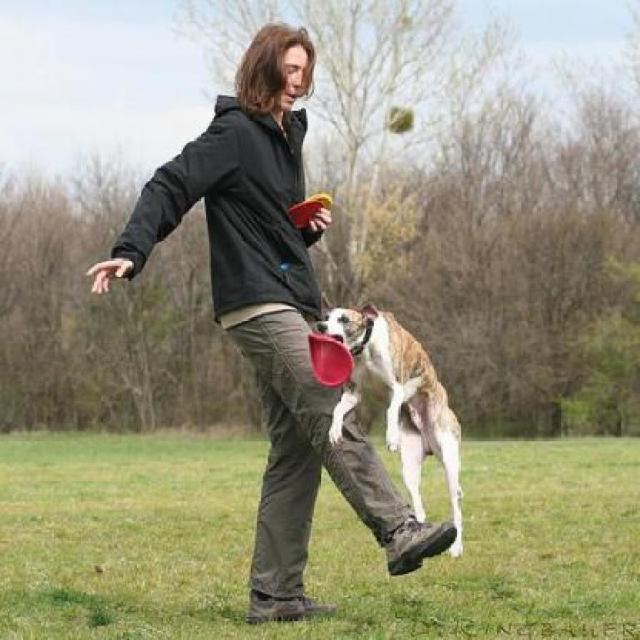Dog: (309, 288, 471, 566)
